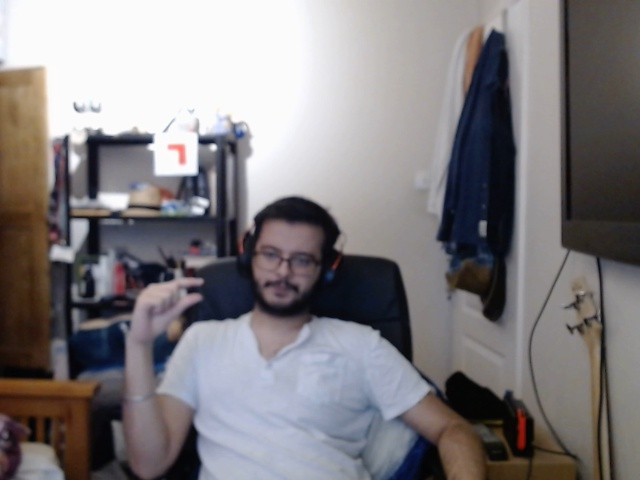Small: (116, 268, 218, 354)
